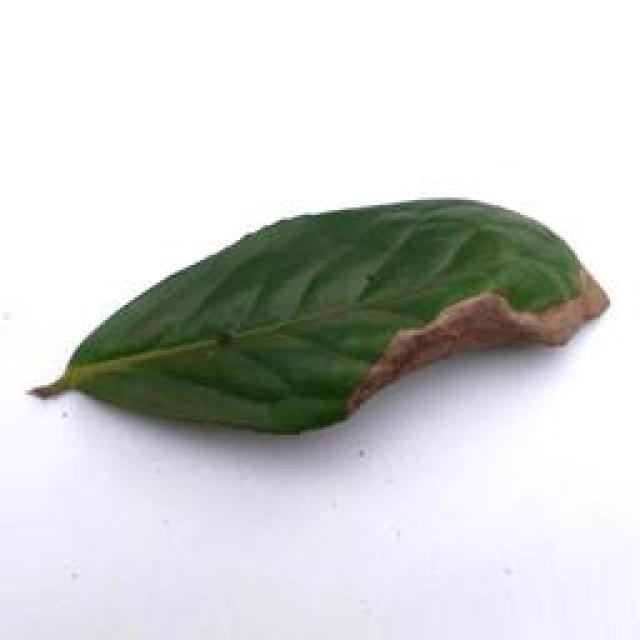Brown Blight: (31, 181, 605, 432)
